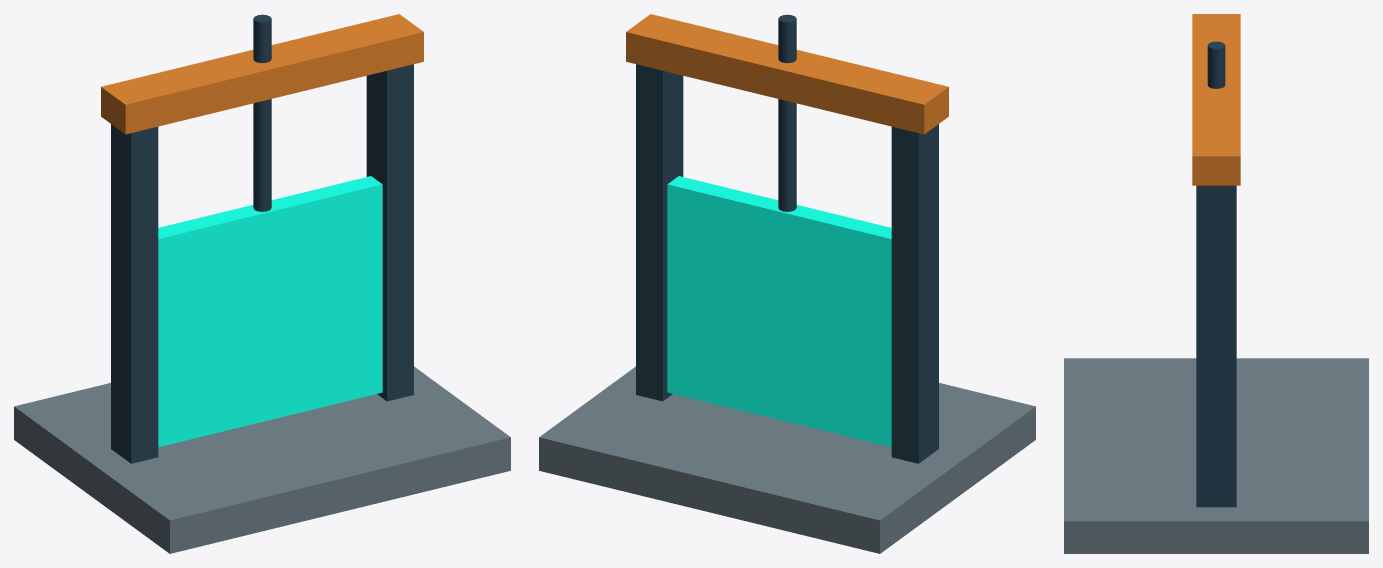
The model's file is gate.gltf.
3 views of the same model, side by side, from view 1: azimuth 30°, elevation 25°; view 2: azimuth 150°, elevation 25°; view 3: azimuth 270°, elevation 25° (orthographic). The views are drawn at different scales.
Parts seen in each view (by area): view 1: GateBoard, ChannelBase, TopBeam, GuideLeft, GuideRight, LiftRod; view 2: GateBoard, ChannelBase, TopBeam, GuideLeft, GuideRight, LiftRod; view 3: ChannelBase, GuideRight, TopBeam, LiftRod.
Boxes of the visible parts, x1=… form: GateBoard: x1=158, y1=176, x2=382, y2=447; ChannelBase: x1=14, y1=366, x2=510, y2=553; TopBeam: x1=101, y1=14, x2=423, y2=134; GuideLeft: x1=111, y1=124, x2=158, y2=463; GuideRight: x1=366, y1=64, x2=413, y2=401; LiftRod: x1=253, y1=14, x2=271, y2=211; GateBoard: x1=667, y1=176, x2=891, y2=447; ChannelBase: x1=539, y1=366, x2=1035, y2=553; TopBeam: x1=626, y1=14, x2=948, y2=134; GuideLeft: x1=891, y1=124, x2=938, y2=463; GuideRight: x1=636, y1=64, x2=683, y2=401; LiftRod: x1=778, y1=14, x2=796, y2=211; ChannelBase: x1=1064, y1=358, x2=1368, y2=553; GuideRight: x1=1196, y1=185, x2=1236, y2=507; TopBeam: x1=1192, y1=14, x2=1240, y2=185; LiftRod: x1=1207, y1=41, x2=1225, y2=88.
Size of the model in its own units: 4.8 by 5.88 by 3.8.
